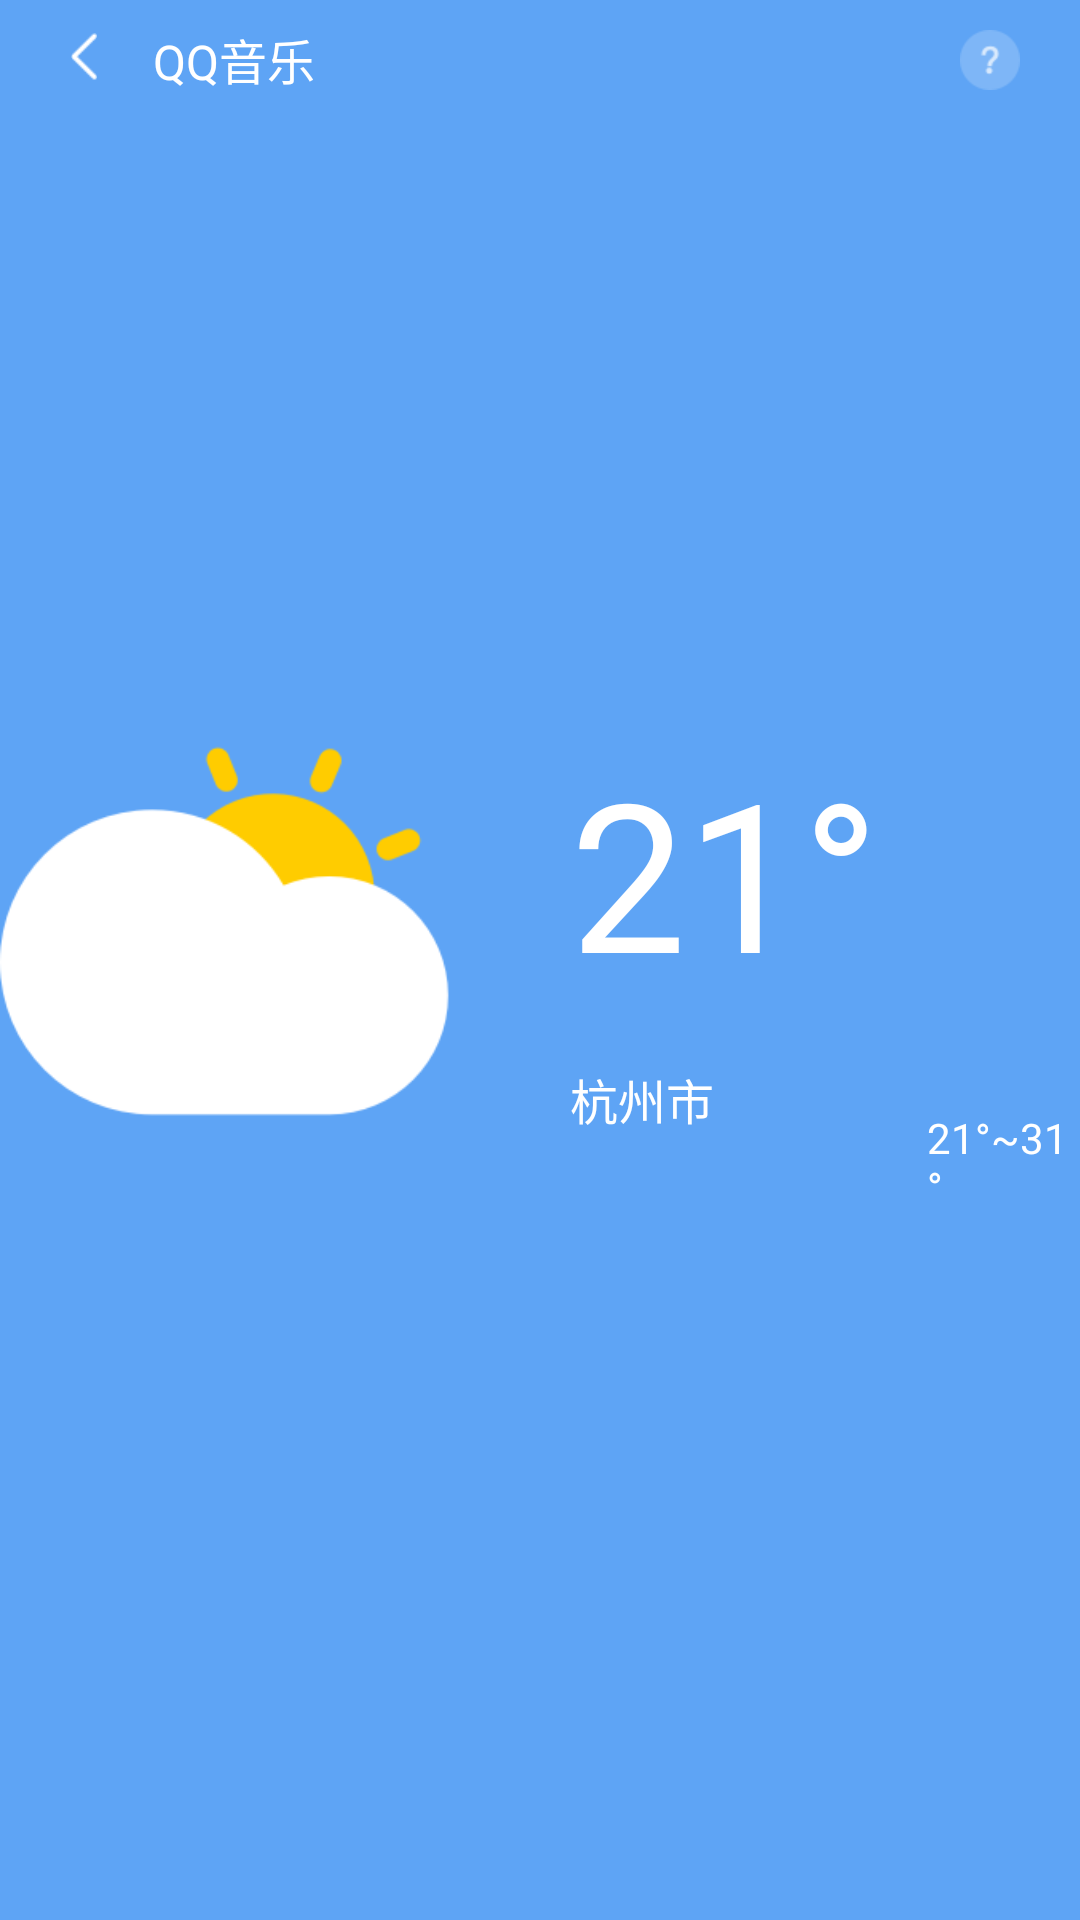

Where to tap for icons on this 1080 × 1920 app screen, as (x=x, y=y):
chevron left: (x=84, y=56)
help: (x=990, y=60)
